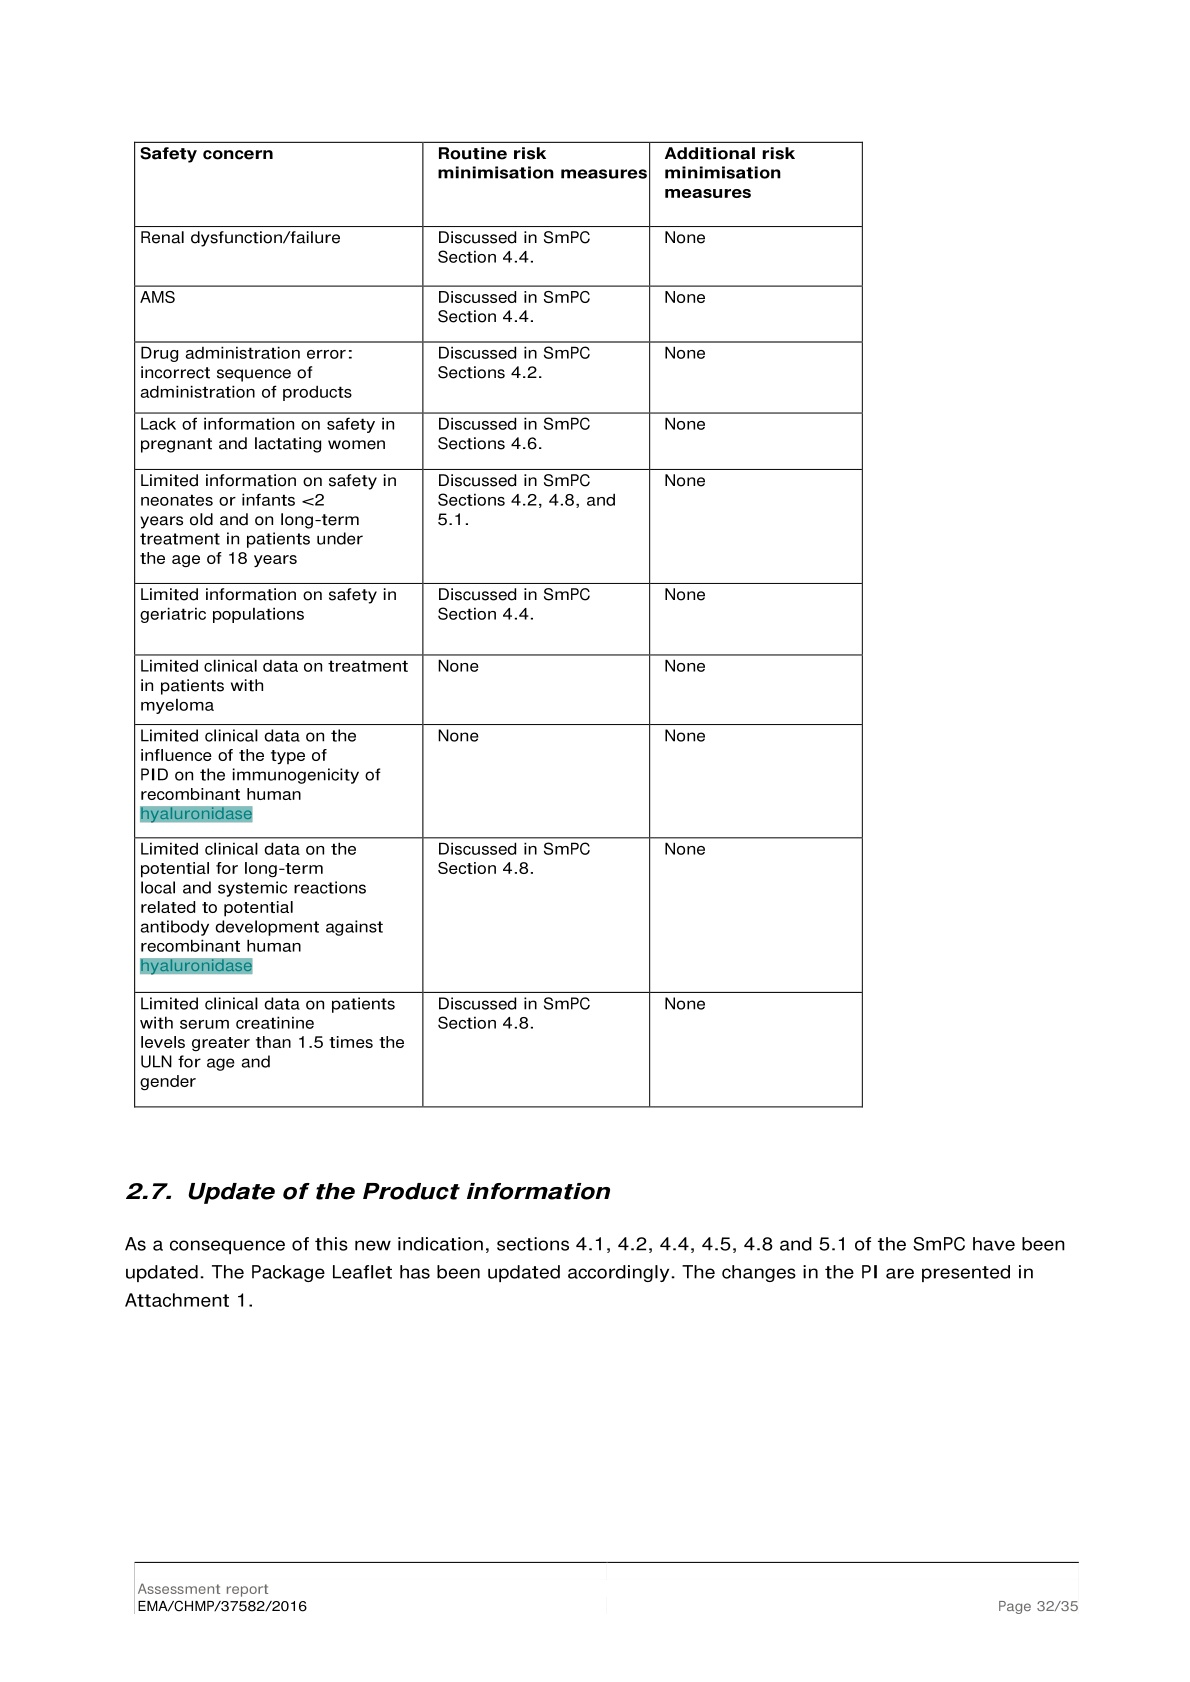full_lined: (134, 140, 864, 1108)
